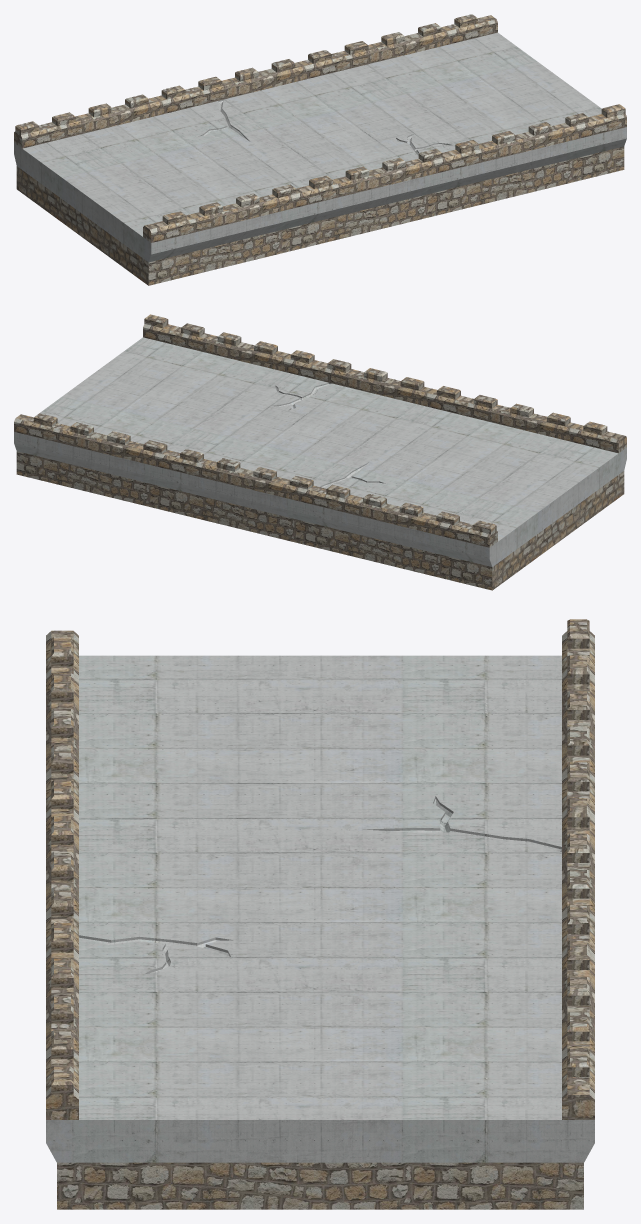
The model's file is Platform_S_Path.fbx.
3 renders of one model, top to bottom at view 1: azimuth 30°, elevation 25°; view 2: azimuth 150°, elevation 25°; view 3: azimuth 270°, elevation 25°, orthographic. The views are drawn at different scales.
Parts seen in each view (by area): view 1: Platform_S_Path; view 2: Platform_S_Path; view 3: Platform_S_Path.
Part boxes in pixels (<box>): Platform_S_Path: <box>14,14,626,285</box>; Platform_S_Path: <box>14,314,626,590</box>; Platform_S_Path: <box>46,619,594,1209</box>.
Size of the model in its own units: 10 by 1.28 by 5.
